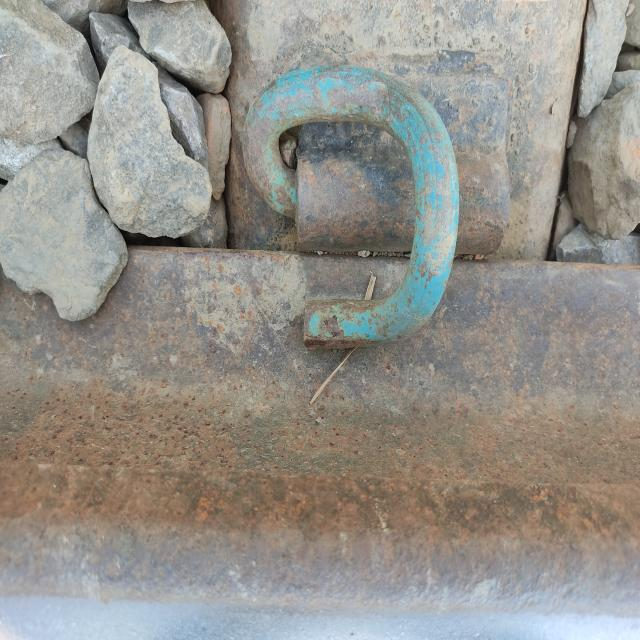No Fault: (240, 59, 483, 360)
